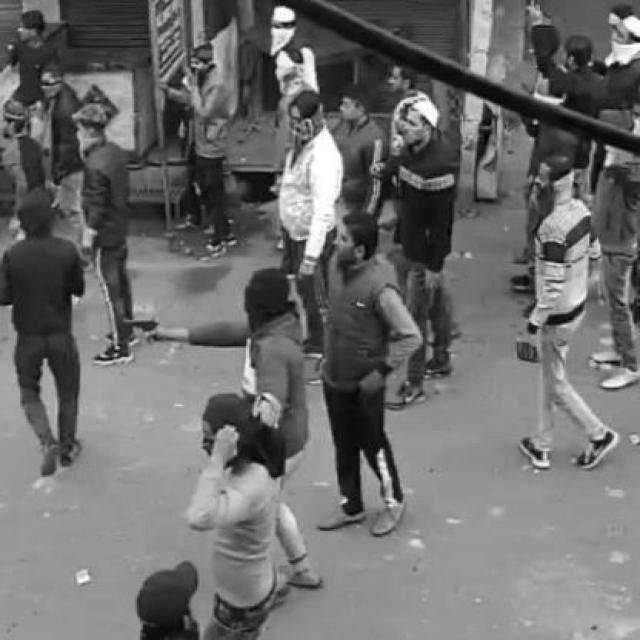weapon: (120, 317, 162, 343)
